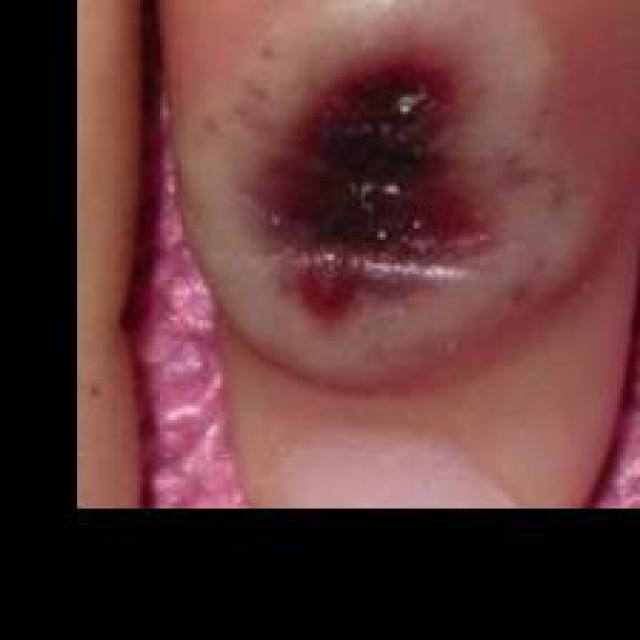monkeypox: (117, 0, 634, 435)
